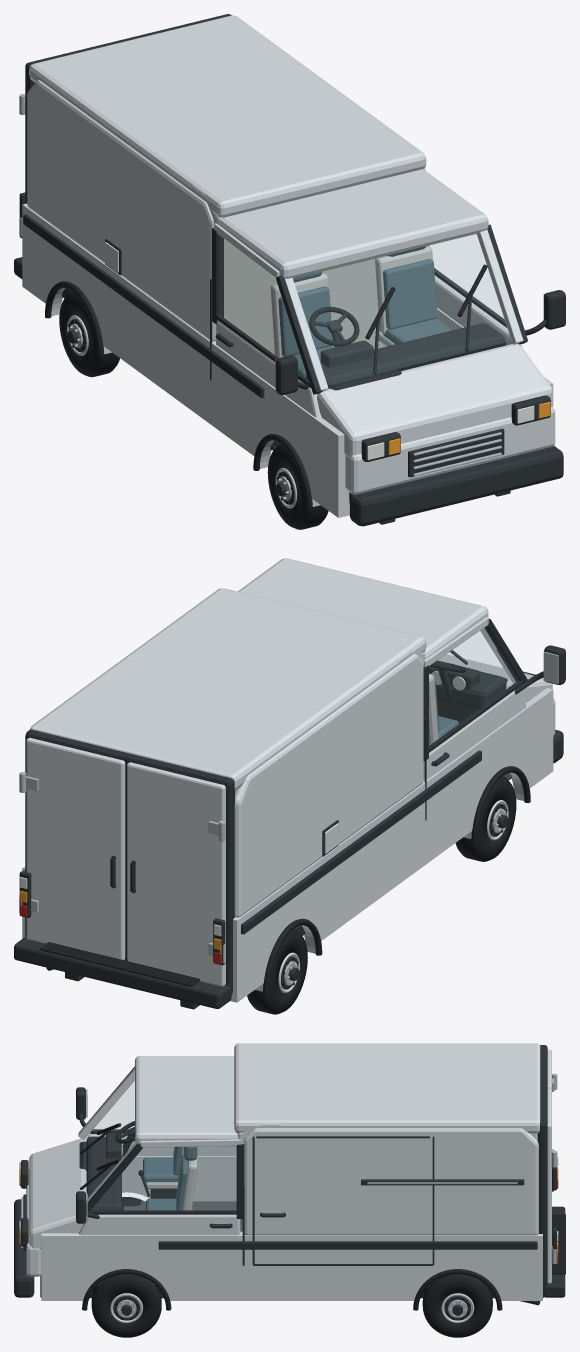
File: city-delivery-panel-van.glb
3 views of the same model, one above another, from view 1: azimuth 30°, elevation 25°; view 2: azimuth 150°, elevation 25°; view 3: azimuth 270°, elevation 25° (orthographic). The views are drawn at different scales.
Parts seen in each view (by area): view 1: Assembly | Cool off white panel van paint, Assembly | Graphite chassis and trim, Assembly | Light warm interior lining, Assembly | Charcoal tire and seal rubber, Assembly | Blue grey seat upholstery, Assembly | Lightly tinted alpha blended glazing, Assembly | Satin aluminium and plated steel; view 2: Assembly | Cool off white panel van paint, Assembly | Graphite chassis and trim, Assembly | Charcoal tire and seal rubber, Assembly | Satin aluminium and plated steel, Assembly | Lightly tinted alpha blended glazing; view 3: Assembly | Cool off white panel van paint, Assembly | Graphite chassis and trim, Assembly | Charcoal tire and seal rubber, Assembly | Blue grey seat upholstery, Assembly | Satin aluminium and plated steel, Assembly | Lightly tinted alpha blended glazing, Assembly | Light warm interior lining, Assembly | Non slip dark interior floor, Assembly | Polished metal detail.
Part boxes in pixels (x1,y1,x2,y2): Assembly | Cool off white panel van paint: [22, 15, 555, 517]; Assembly | Graphite chassis and trim: [14, 14, 565, 526]; Assembly | Light warm interior lining: [224, 238, 432, 357]; Assembly | Charcoal tire and seal rubber: [45, 264, 487, 529]; Assembly | Blue grey seat upholstery: [278, 246, 452, 377]; Assembly | Lightly tinted alpha blended glazing: [429, 234, 505, 323]; Assembly | Satin aluminium and plated steel: [19, 94, 544, 505]; Assembly | Cool off white panel van paint: [22, 558, 555, 1002]; Assembly | Graphite chassis and trim: [14, 618, 565, 1009]; Assembly | Charcoal tire and seal rubber: [39, 660, 530, 1014]; Assembly | Satin aluminium and plated steel: [19, 651, 558, 989]; Assembly | Lightly tinted alpha blended glazing: [438, 631, 510, 679]; Assembly | Cool off white panel van paint: [26, 1043, 551, 1300]; Assembly | Graphite chassis and trim: [14, 1045, 565, 1320]; Assembly | Charcoal tire and seal rubber: [82, 1121, 565, 1337]; Assembly | Blue grey seat upholstery: [143, 1146, 197, 1210]; Assembly | Satin aluminium and plated steel: [21, 1073, 557, 1320]; Assembly | Lightly tinted alpha blended glazing: [92, 1081, 134, 1130]; Assembly | Light warm interior lining: [146, 1147, 197, 1210]; Assembly | Non slip dark interior floor: [97, 1201, 242, 1286]; Assembly | Polished metal detail: [110, 1293, 474, 1323].
Size of the model in its own units: 2.59 by 2.36 by 5.43.
